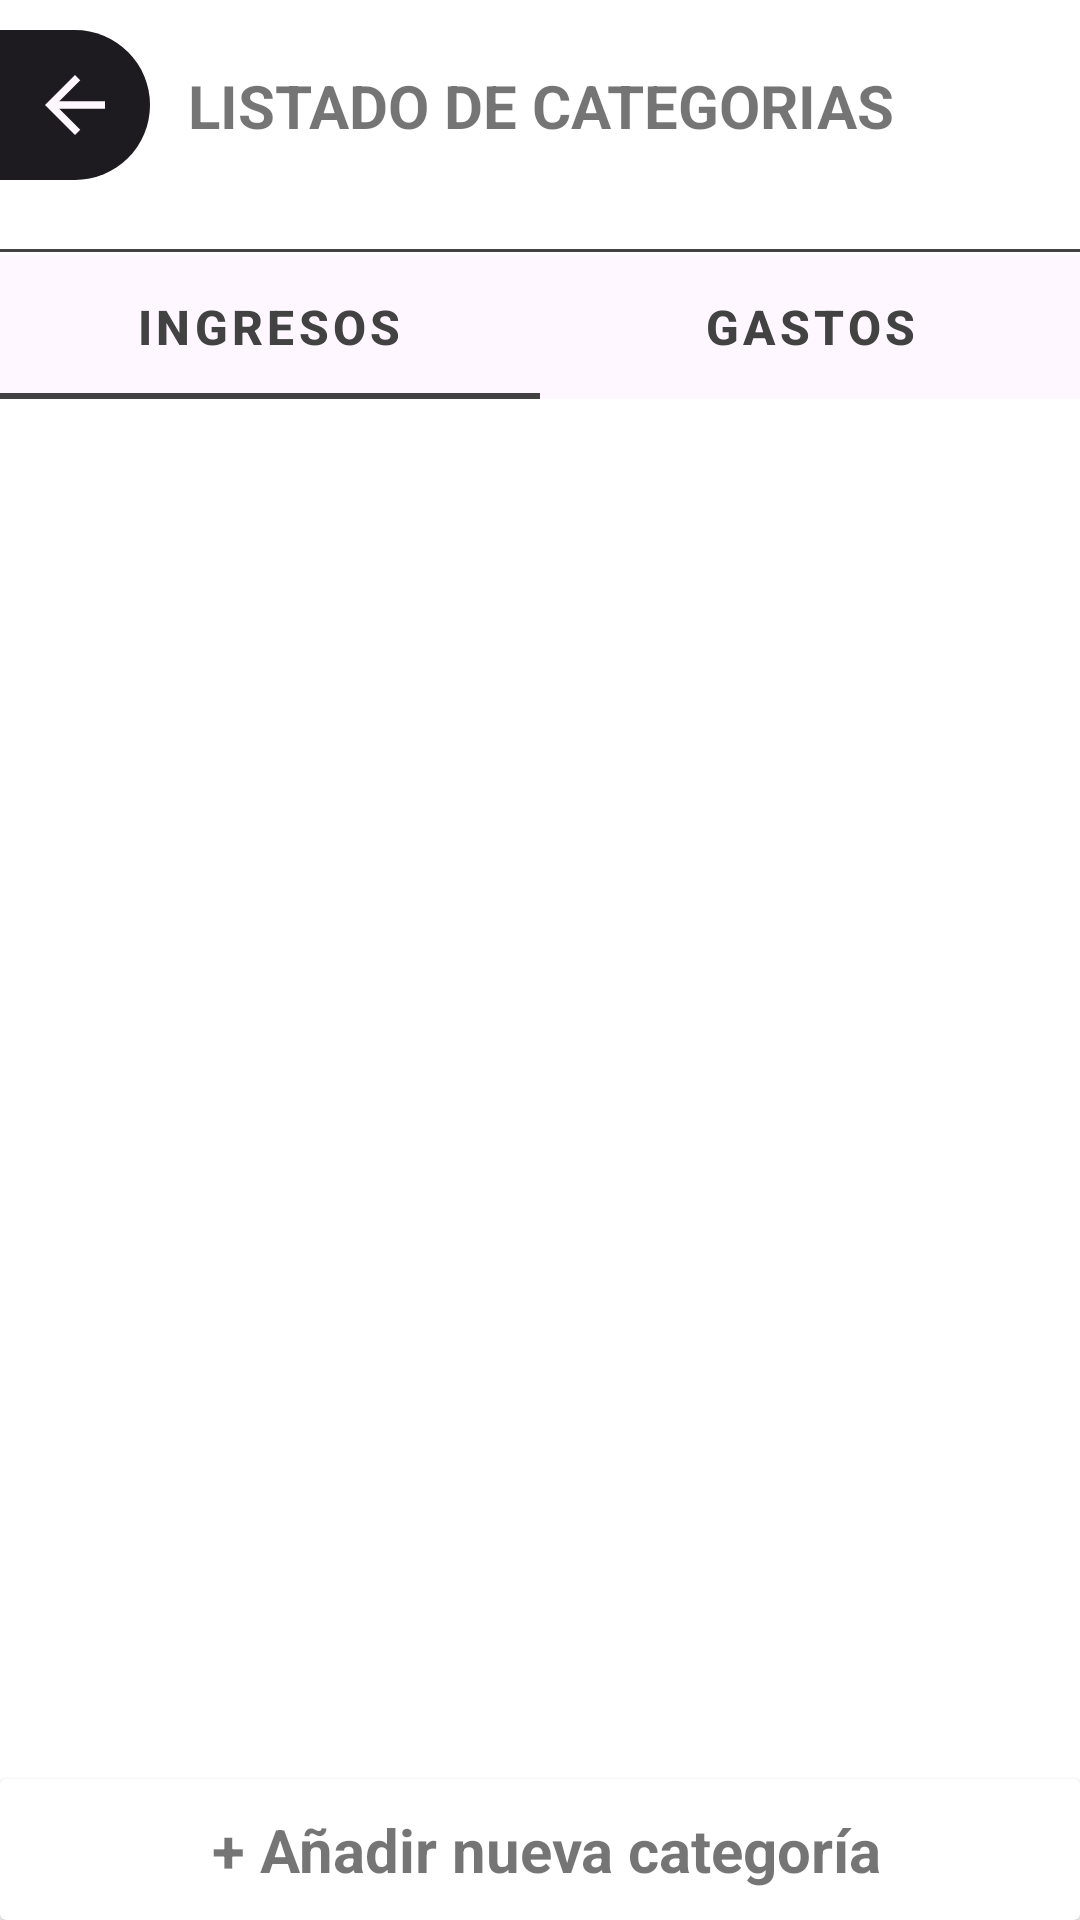

Screen size 1080px×1920px. Icon name, then its center in pixels as point (x, y):
turn back arrow: point (75, 105)
